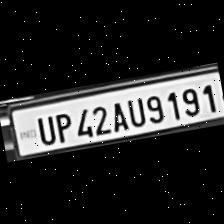1: (160, 88, 181, 122), (197, 81, 219, 113)
2: (86, 100, 110, 136)
4: (70, 105, 93, 140)
9: (140, 90, 166, 126), (176, 83, 200, 118)
A: (106, 98, 128, 132)
P: (48, 108, 72, 144)
U: (31, 112, 55, 147), (122, 94, 146, 128)
